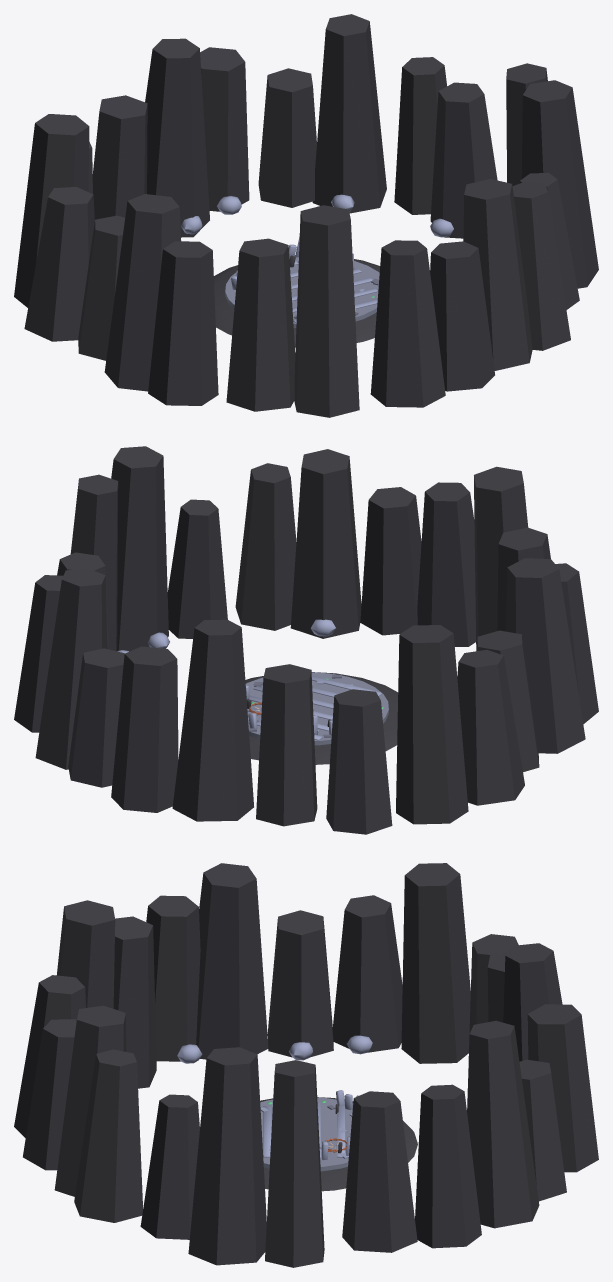
Rendered from sky_snapper.glb.
3 views of the same model, one above another, from view 1: azimuth 30°, elevation 25°; view 2: azimuth 150°, elevation 25°; view 3: azimuth 270°, elevation 25° (orthographic). The views are drawn at different scales.
Parts seen in each view (by area): view 1: SkySnapperGround; view 2: SkySnapperGround; view 3: SkySnapperGround.
Part boxes in pixels (x1,y1,x2,y2): SkySnapperGround: [14, 14, 598, 417]; SkySnapperGround: [14, 446, 598, 834]; SkySnapperGround: [14, 863, 598, 1267].
Size of the model in its own units: 41.98 by 15.23 by 41.78.
1 material, 1 textured.
